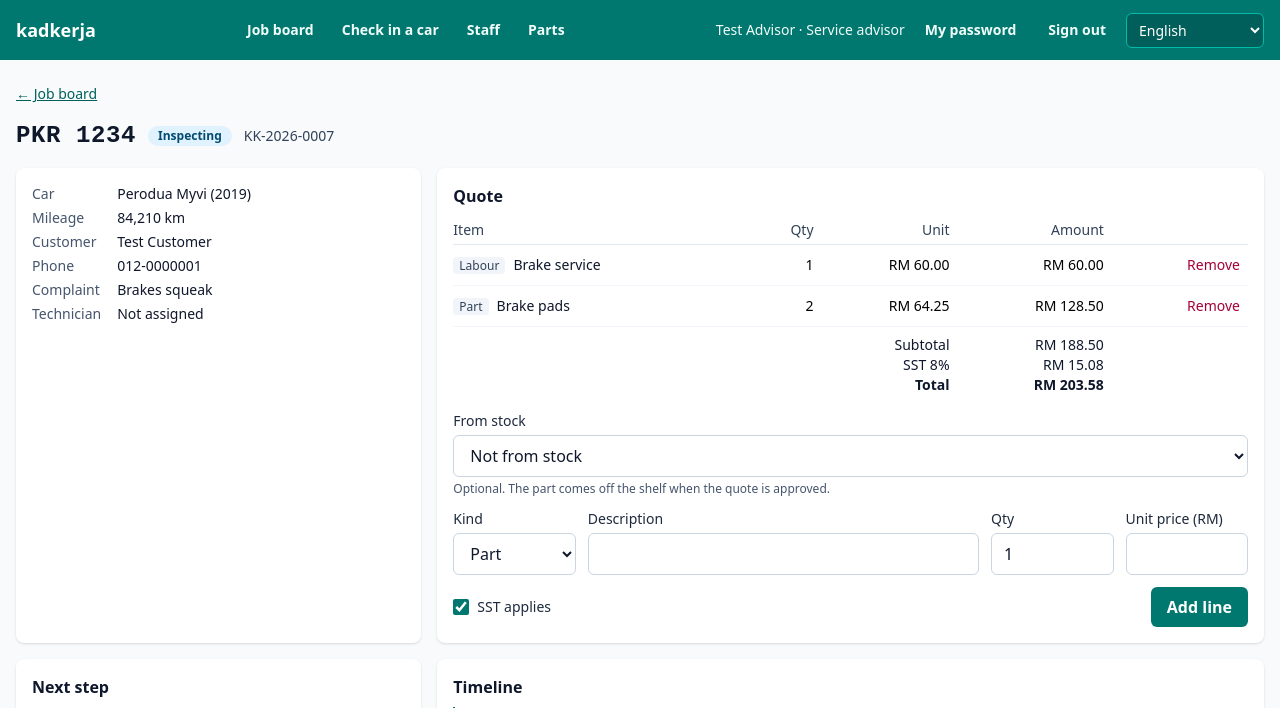
it: JobPage › adds a line with the price in sen and shows the saved card
Expected: the heading "PKR 1234" is shown, [16,120,136,152]
In the field labelled "Description": (783, 554) [588,533,979,575], type "Engine oil 4 L"
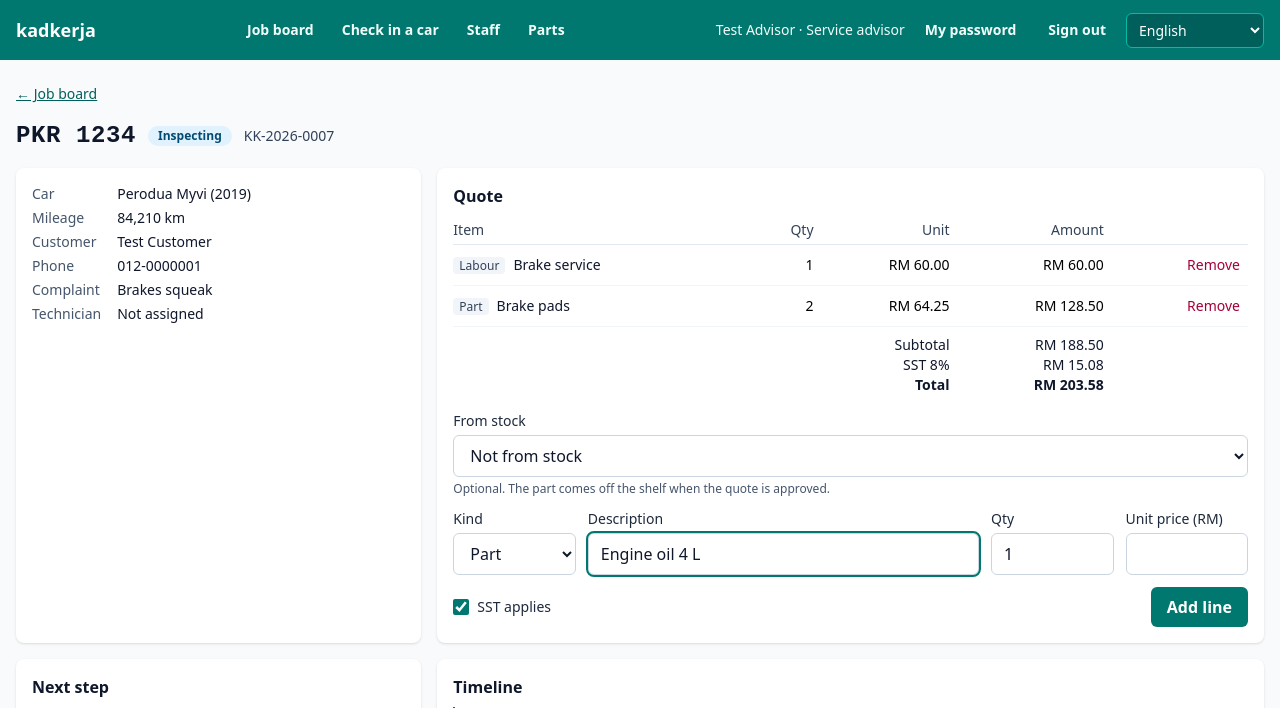
In the field labelled "Unit price (RM)": (1187, 554) [1126,533,1248,575], type "45.50"
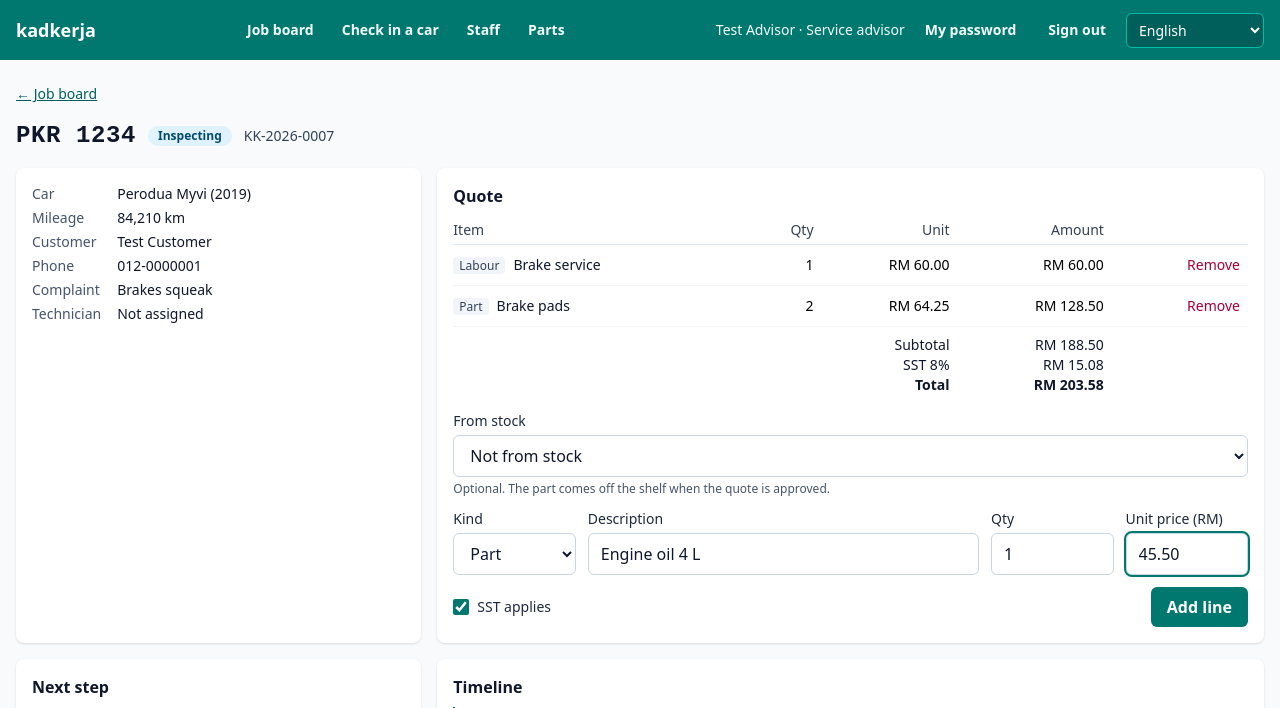
Click the checkbox labelled "SST applies": (461, 607) [453,599,469,615]
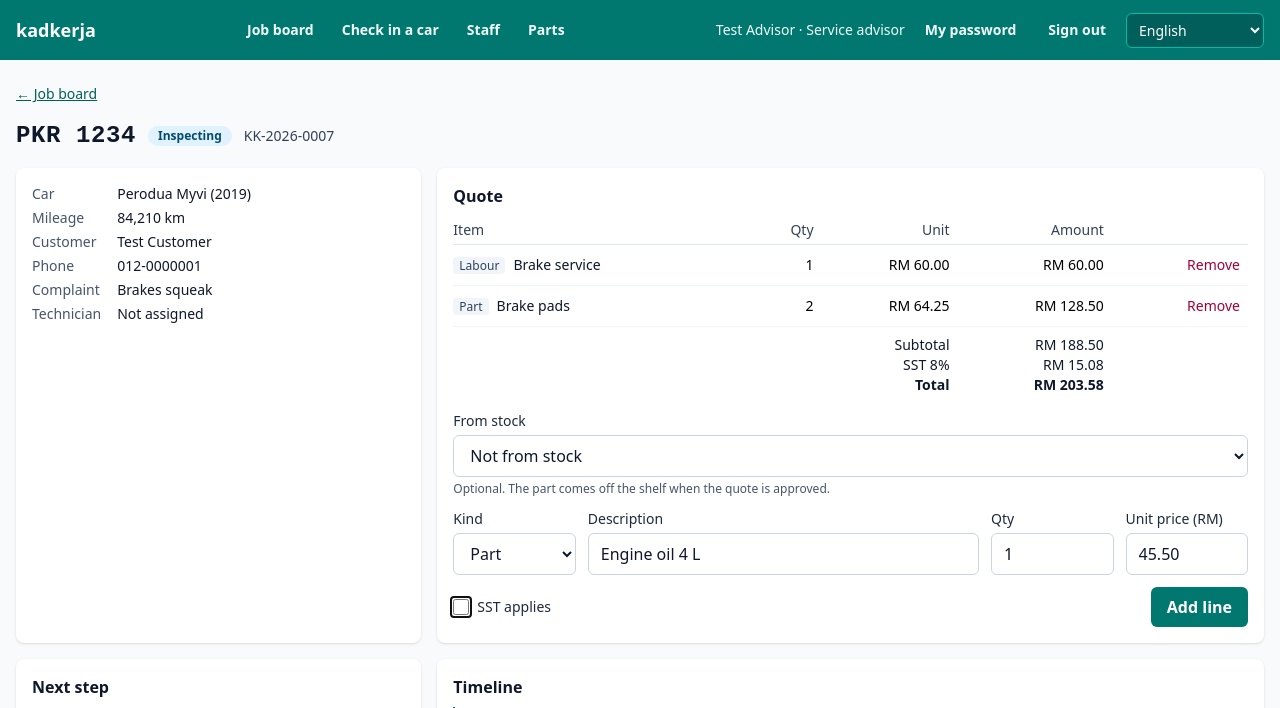
Click the button "Add line": (1199, 607) [1151,587,1248,627]
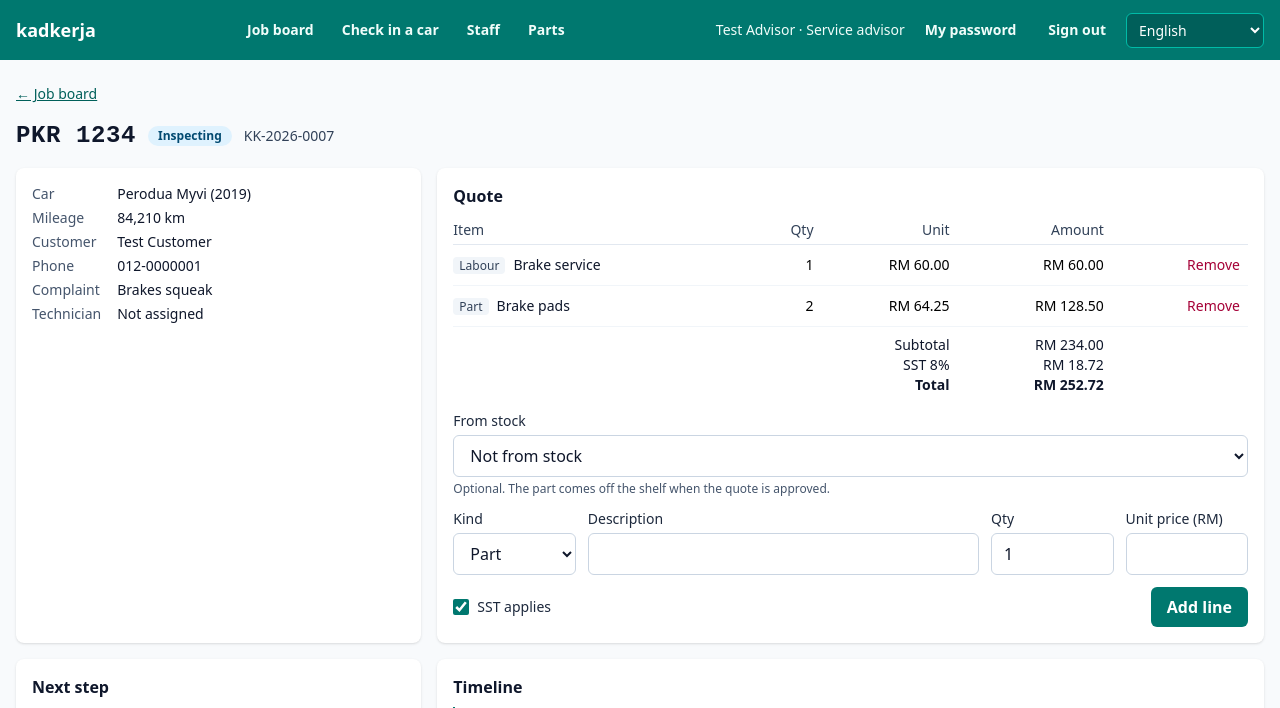
Result: the cell with test id "total" reads "RM 252.72" at [1034,375,1104,394]
